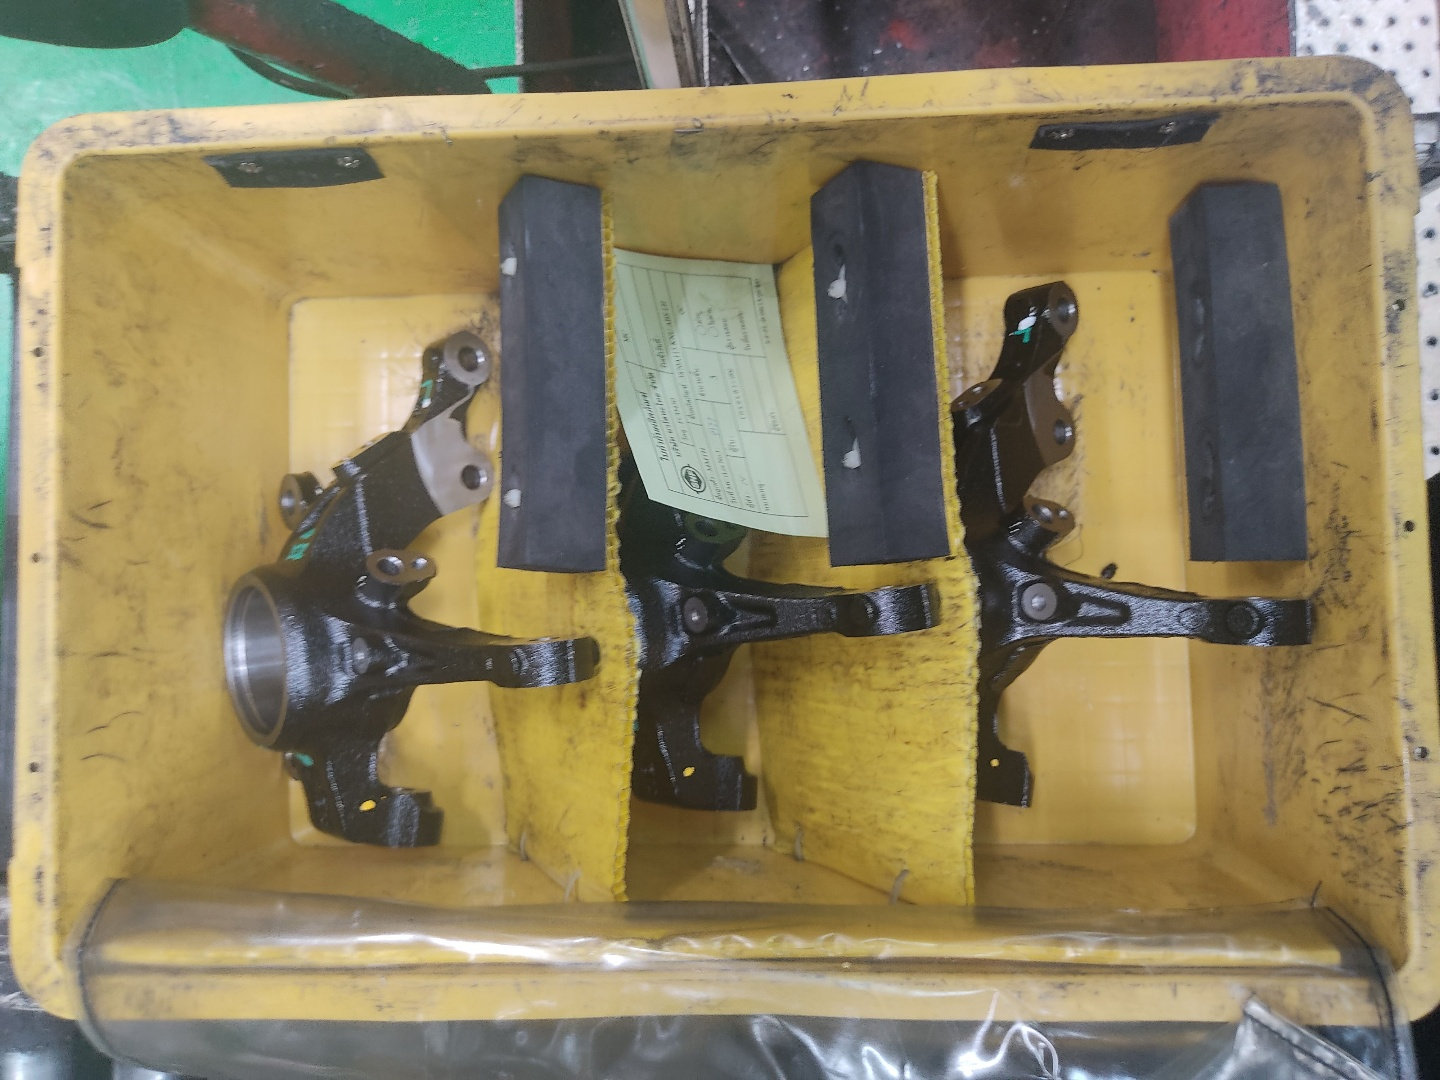abs-lh: (215, 323, 612, 857), (947, 275, 1329, 816), (608, 299, 946, 832)
